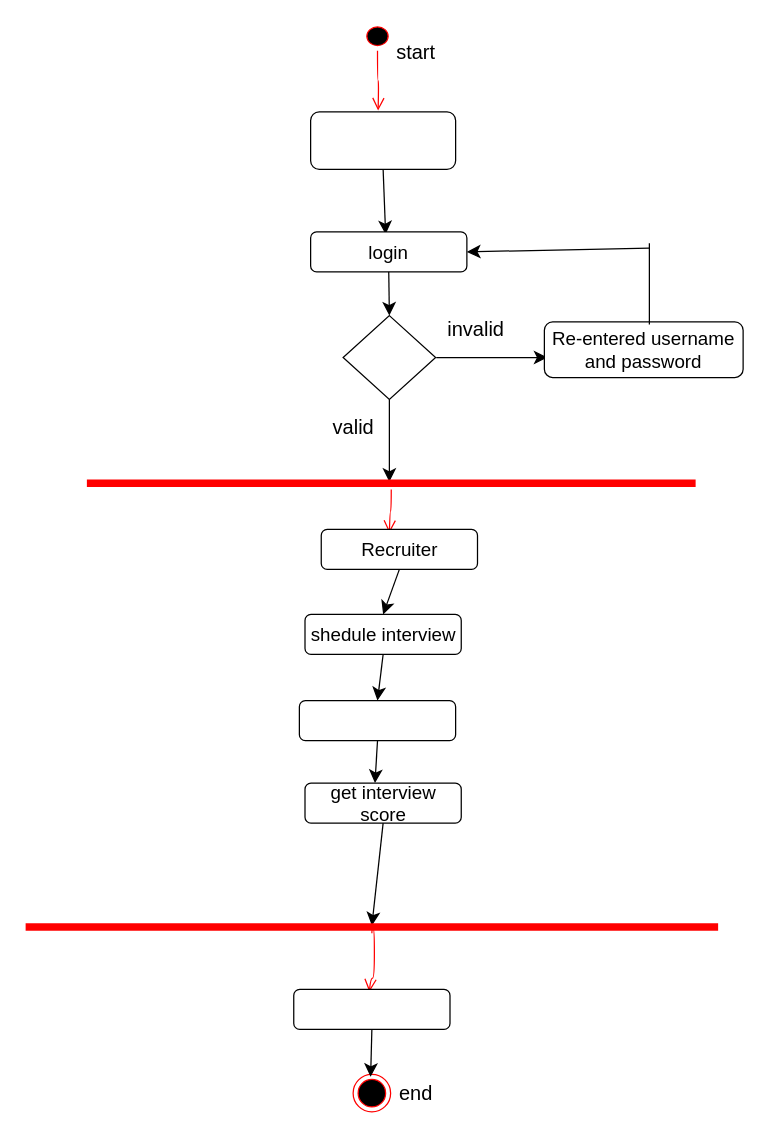
The diagram is 765 pixels wide and 1134 high, and some of its shapes have lost their labels. The shapes that lost their labels are listed below. From the top down, each one's box as (x1, y1, x2, y2) in pixels, then its label:
(309, 111, 456, 169): Recruiter is registered
(298, 699, 456, 741): get feedback
(292, 988, 450, 1029): logout
